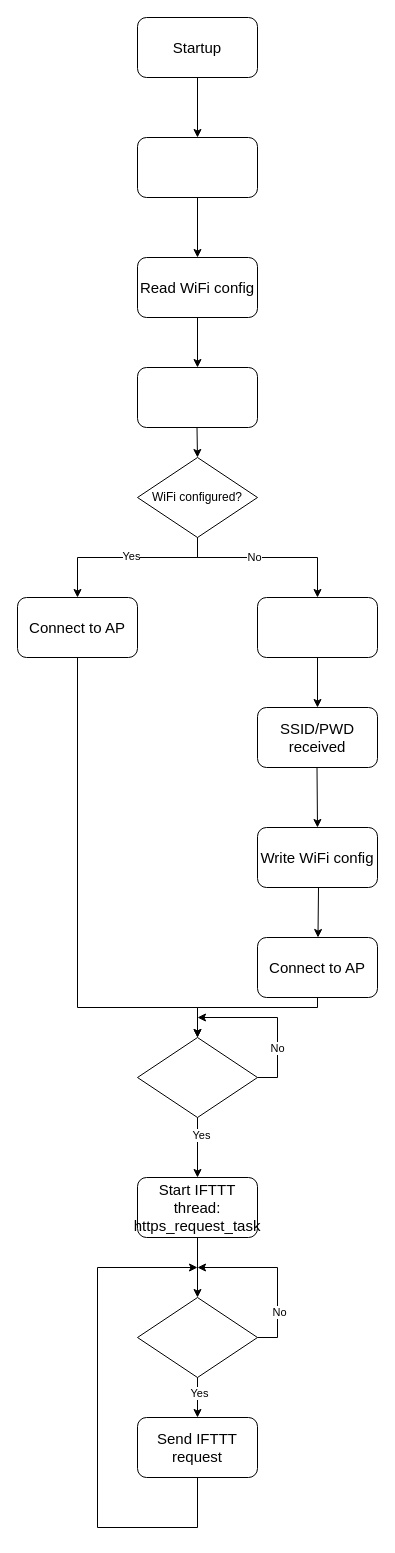
This 395x1553 diagram has some shape labels left out. The shapes that lost their labels are listed below. From the top down, each one's centre as x and y in pixels, then its label:
pixel 197 167: Config Button GPIO
pixel 197 397: Register WiFi&IP event
pixel 317 627: Start BluFi
pixel 197 1077: IP_EVENT_STA _GOT_IP
pixel 197 1337: any msg in gpio_evt_queue
